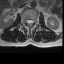CCS_normal: (28, 18, 31, 27)
LFS_normal: (33, 18, 35, 24)
LLS_normal: (31, 19, 33, 25)
RFS_normal: (24, 18, 27, 24)
RLS_normal: (26, 18, 28, 25)
